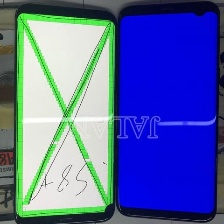phone: (10, 0, 120, 224), (113, 0, 220, 224)
